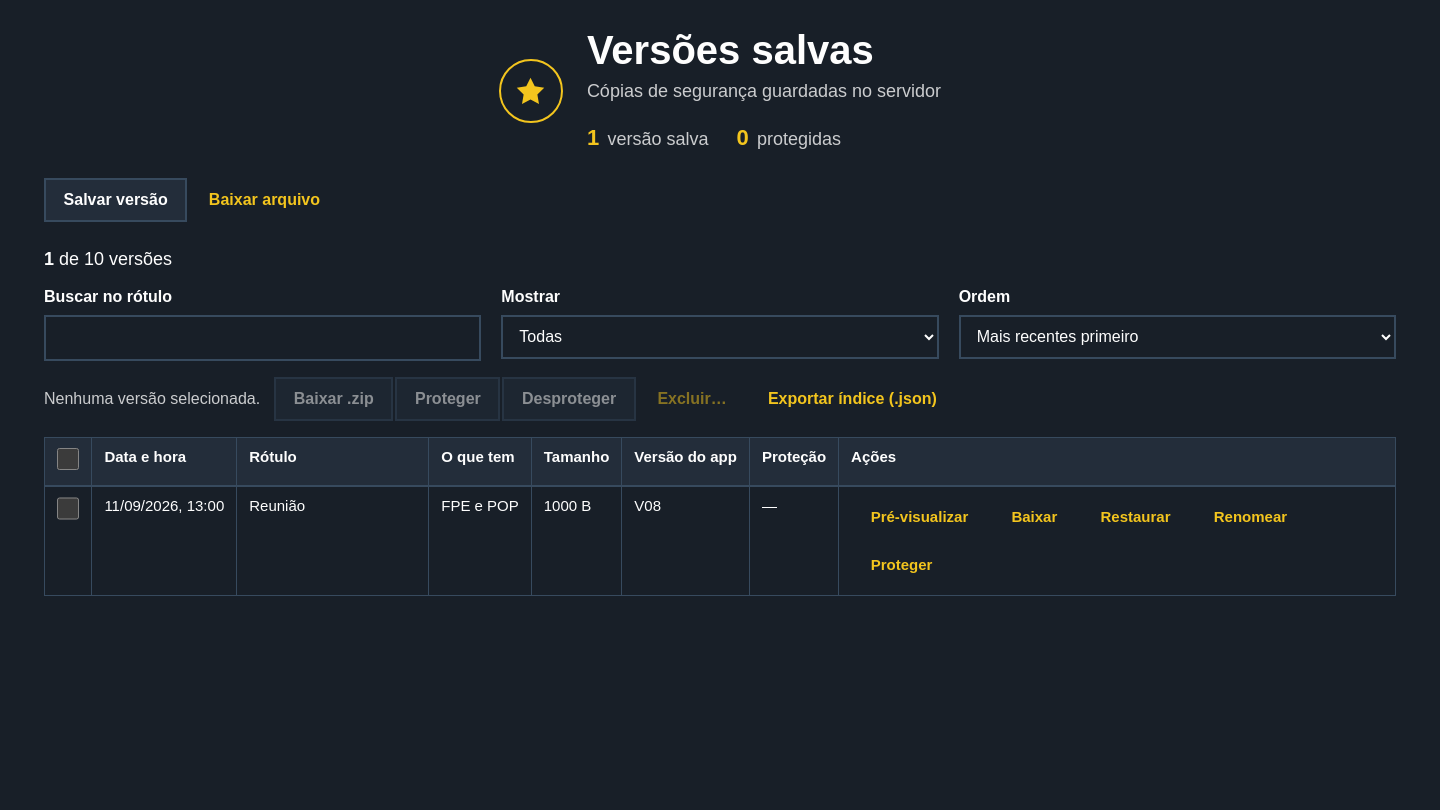
Test: proteger e renomear › proteger e desproteger uma versão pelo botão da linha (aria-pressed)
What coordinates should you click on to do the following:
click the button with aria-label "Proteger: Reunião"
I would click on:
 (902, 565)
Its box is [851,543,952,587].
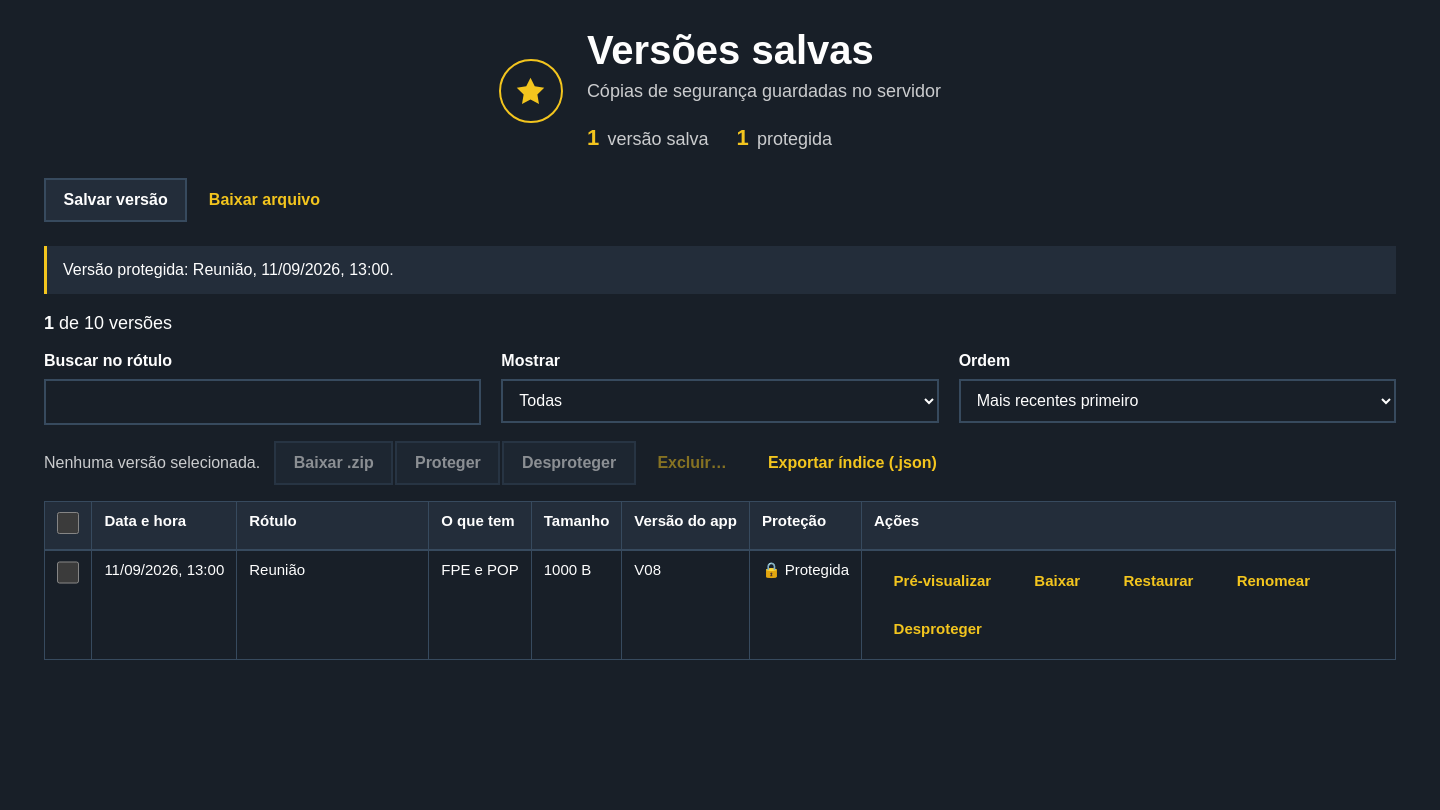
expect the text "Versão protegida: Reunião, 11/09/2026, 13:00." is shown: met, box [44,246,1396,294]
What coordinates should you click on to do the following:
click the button with aria-label "Remover a proteção de: Reunião"
I would click on:
 (938, 629)
Its box is [874,607,1002,651].
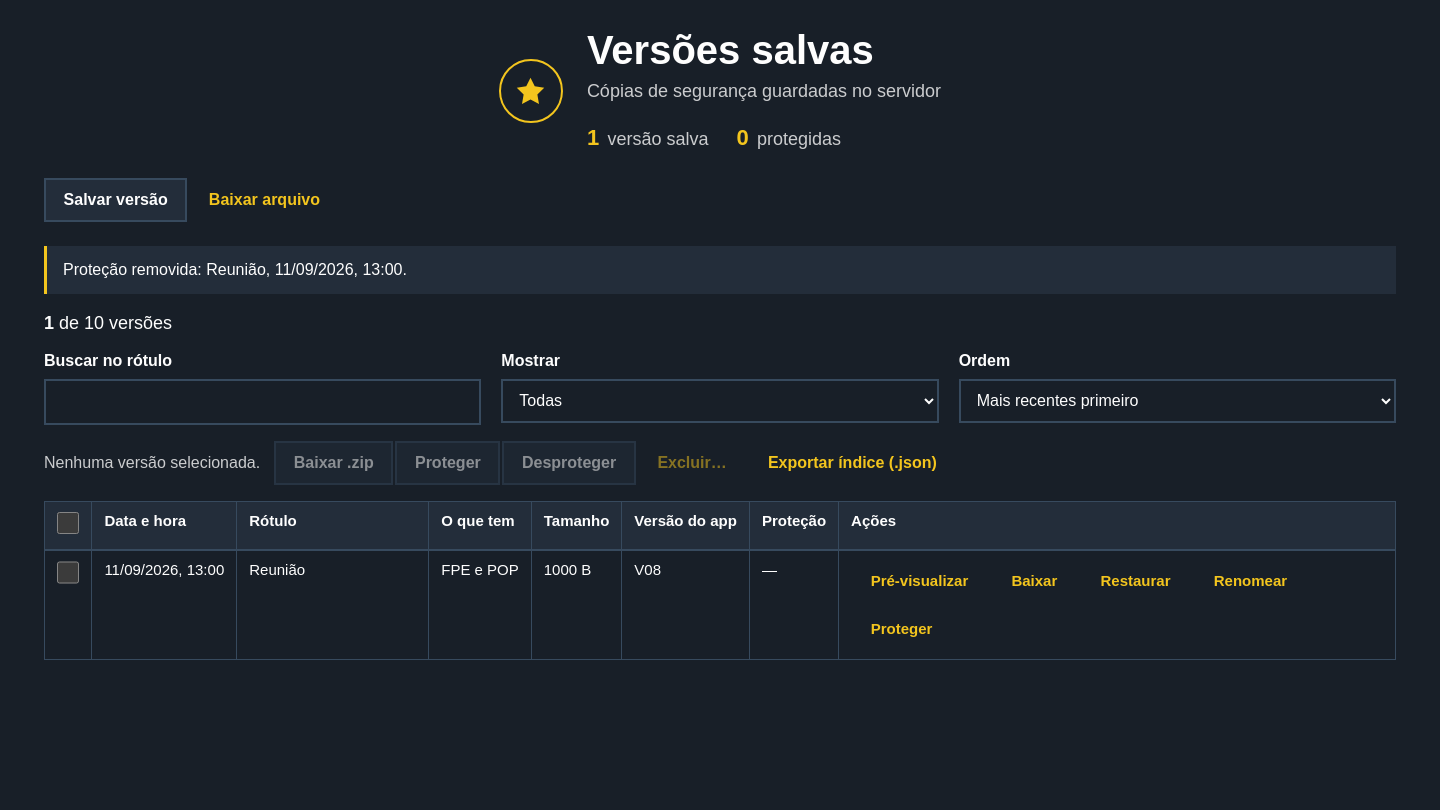
expect the text "Proteção removida: Reunião, 11/09/2026, 13:00." is shown: met, box [44,246,1396,294]
